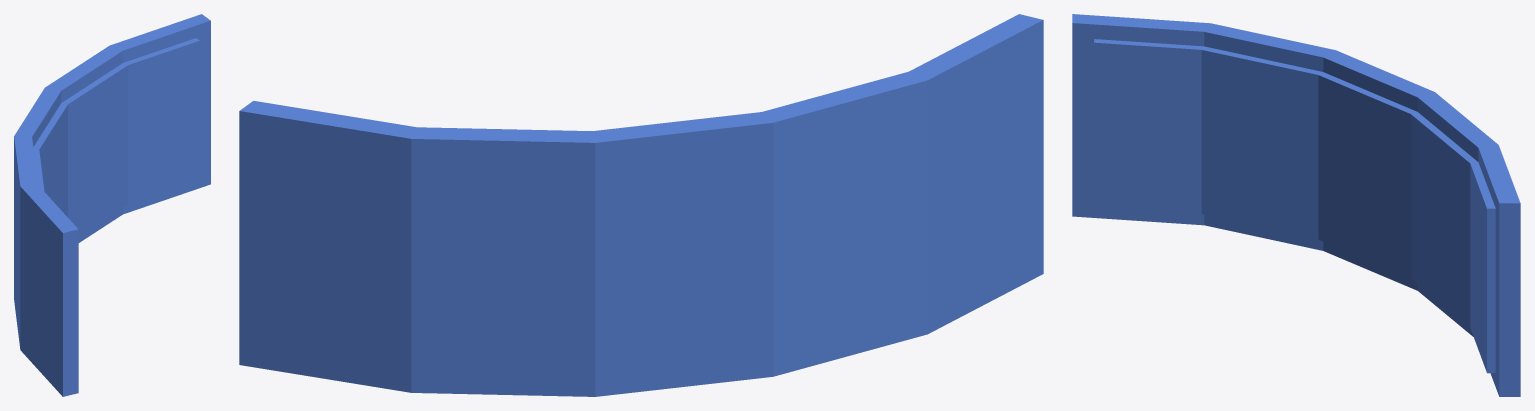
Rendered from TopPlates_Corner_Round_Inner_Collision.fbx.
The picture shows the model from 3 angles, left to right: view 1: azimuth 30°, elevation 25°; view 2: azimuth 150°, elevation 25°; view 3: azimuth 270°, elevation 25°; orthographic projection. The views are drawn at different scales.
Parts seen in each view (by area): view 1: TopPlates_Corner_Round_Inner_Collision; view 2: TopPlates_Corner_Round_Inner_Collision; view 3: TopPlates_Corner_Round_Inner_Collision.
Boxes of the visible parts, box(x1,y1,x2,y2) form: TopPlates_Corner_Round_Inner_Collision: box(14, 14, 210, 396); TopPlates_Corner_Round_Inner_Collision: box(239, 14, 1043, 396); TopPlates_Corner_Round_Inner_Collision: box(1072, 14, 1520, 396).
Bounding box in the file's own units: 420 × 200 × 420.
